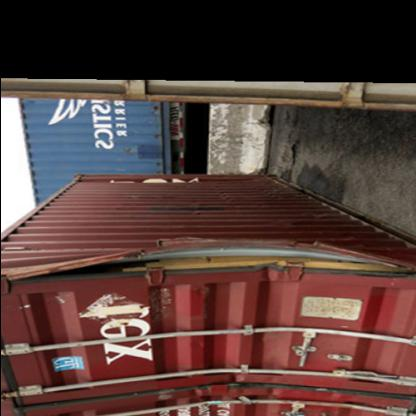Damage: (87, 228, 385, 280)
